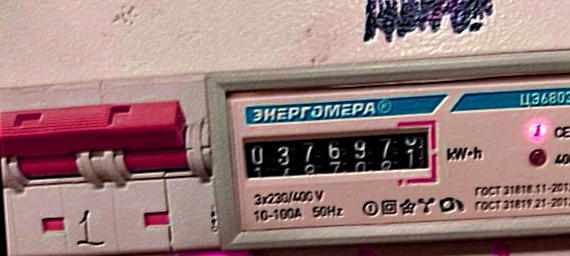0: (248, 144, 266, 167)
1: (405, 148, 417, 169)
3: (275, 145, 291, 169)
6: (327, 139, 342, 161)
7: (301, 140, 316, 165), (378, 136, 393, 160)
9: (352, 138, 367, 161)
screen: (235, 118, 443, 200)
